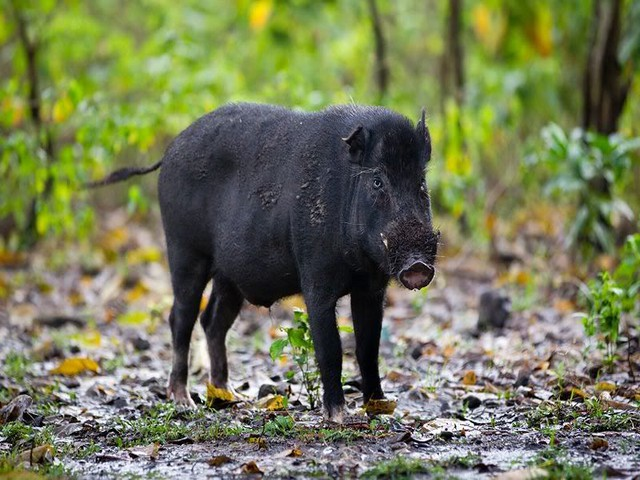Pig: (148, 94, 442, 416)
